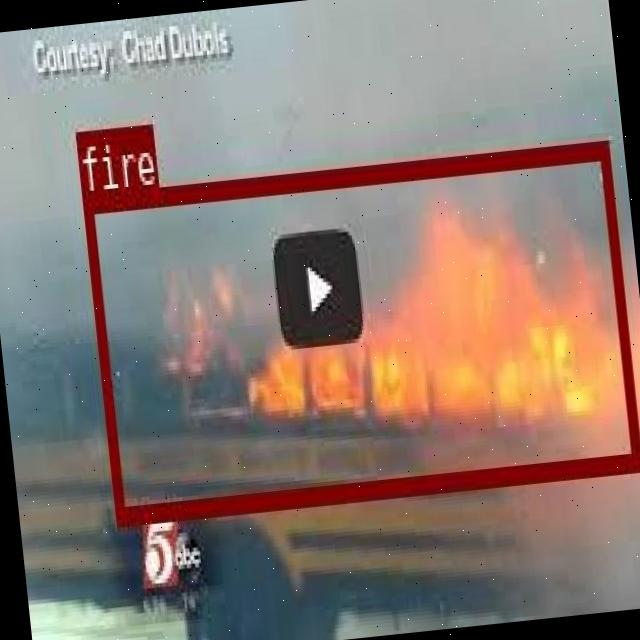fire: (81, 137, 640, 520)
